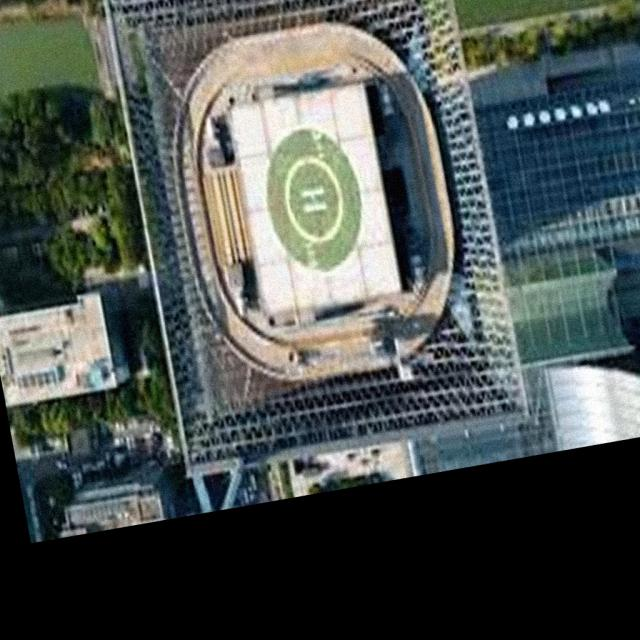helipad: (281, 152, 345, 245)
